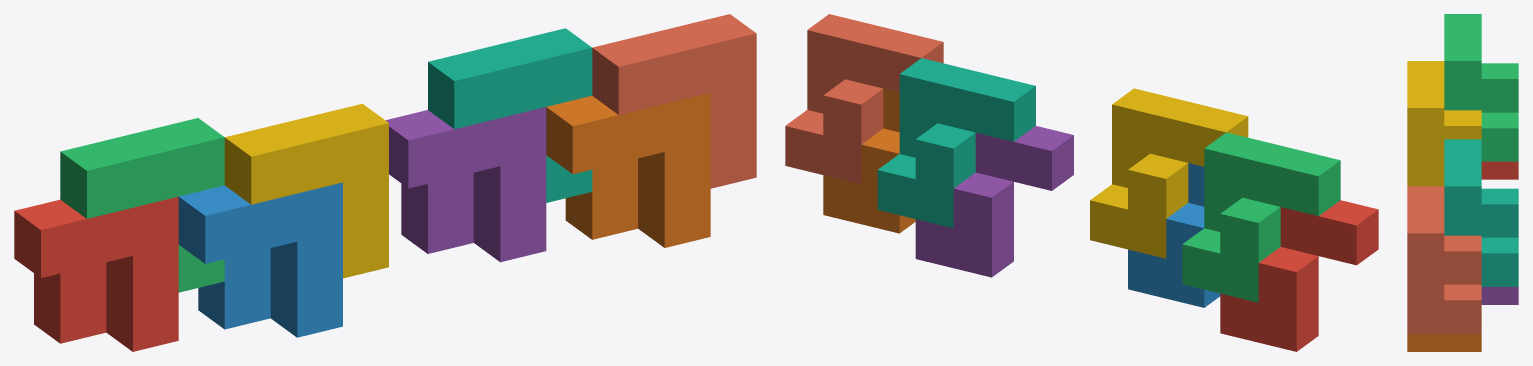
File: tiling.obj
The picture shows the model from 3 angles, left to right: view 1: azimuth 30°, elevation 25°; view 2: azimuth 150°, elevation 25°; view 3: azimuth 270°, elevation 25°; orthographic projection. The views are drawn at different scales.
Visible parts, largest first — view 1: copy_1_domain_1, copy_1_domain_5, copy_1_domain_6, copy_1_domain_2, copy_1_domain_8, copy_1_domain_4, copy_1_domain_3, copy_1_domain_7; view 2: copy_1_domain_7, copy_1_domain_3, copy_1_domain_4, copy_1_domain_8, copy_1_domain_1, copy_1_domain_5, copy_1_domain_6, copy_1_domain_2; view 3: copy_1_domain_8, copy_1_domain_3, copy_1_domain_7, copy_1_domain_4, copy_1_domain_6, copy_1_domain_1, copy_1_domain_5.
Part boxes in pixels (x1,y1,x2,y2): copy_1_domain_1: [14, 196, 178, 351]; copy_1_domain_5: [386, 107, 546, 262]; copy_1_domain_6: [546, 92, 710, 247]; copy_1_domain_2: [178, 182, 342, 337]; copy_1_domain_8: [592, 14, 756, 188]; copy_1_domain_4: [224, 103, 388, 278]; copy_1_domain_3: [60, 118, 224, 292]; copy_1_domain_7: [428, 28, 592, 202]; copy_1_domain_7: [877, 58, 1035, 228]; copy_1_domain_3: [1182, 132, 1340, 302]; copy_1_domain_4: [1090, 88, 1248, 258]; copy_1_domain_8: [785, 14, 943, 184]; copy_1_domain_1: [1220, 200, 1378, 351]; copy_1_domain_5: [915, 126, 1073, 277]; copy_1_domain_6: [823, 88, 915, 233]; copy_1_domain_2: [1128, 163, 1220, 307]; copy_1_domain_8: [1407, 186, 1481, 333]; copy_1_domain_3: [1444, 14, 1518, 161]; copy_1_domain_7: [1444, 139, 1518, 286]; copy_1_domain_4: [1407, 61, 1481, 186]; copy_1_domain_6: [1407, 334, 1481, 351]; copy_1_domain_1: [1481, 161, 1518, 179]; copy_1_domain_5: [1481, 287, 1518, 304].
Bounding box in the file's own units: 15 × 4 × 3.
